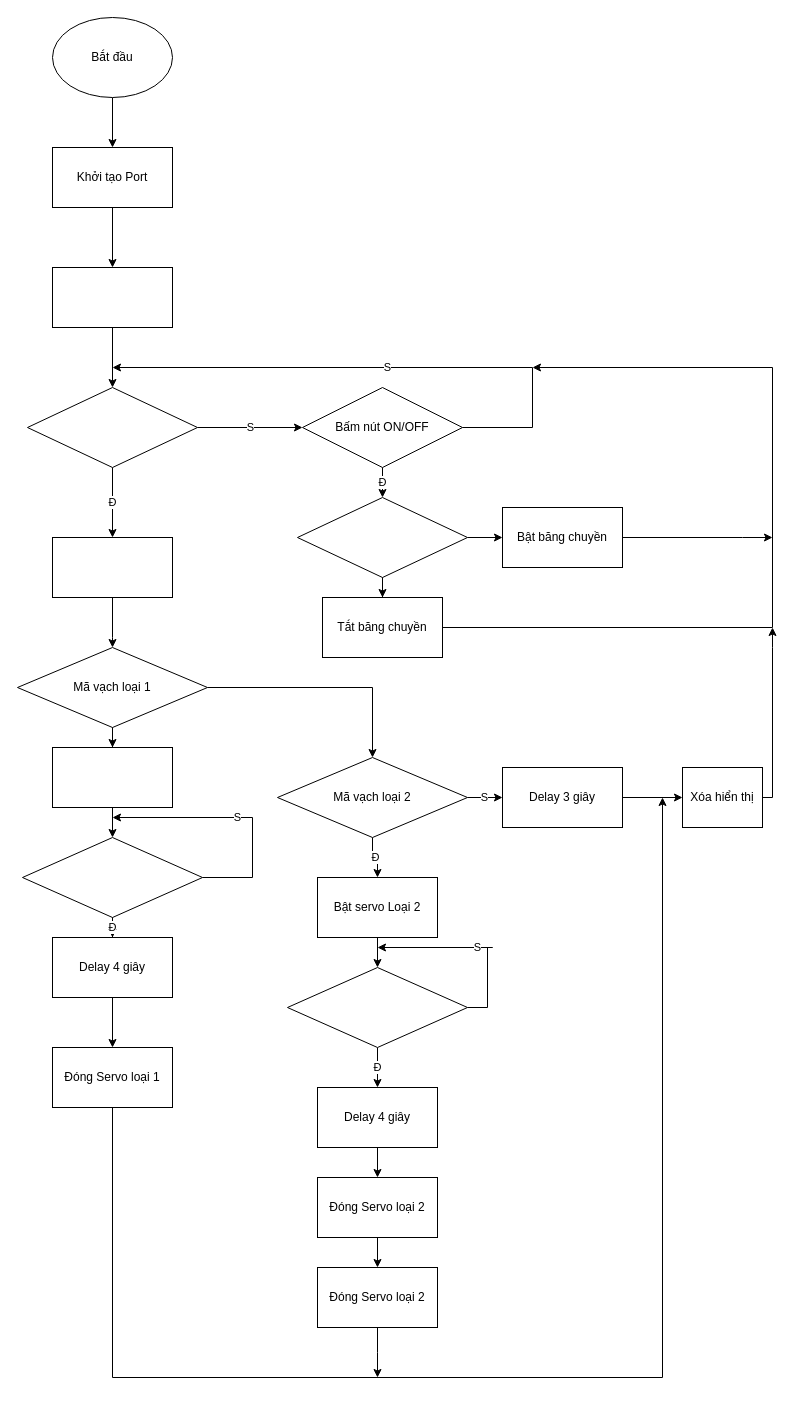
Image size: 798x1403. Some labels were removed from this diagram. Each missing label, with the centre of its shape:
"Băng chuyển đang bật?" belongs at pixel 382 537.
"Bật servo Loại 1" belongs at pixel 112 777.
"Chờ sảm phẩm đi qua cảm biến 1" belongs at pixel 112 877.
"Chờ sảm phẩm đi qua cảm biến 2" belongs at pixel 377 1007.
"Hiển thị thông tin Lên LCD" belongs at pixel 112 567.
"Khởi tạo LCD" belongs at pixel 112 297.
"Nhận mã vạch từ cảm biến?" belongs at pixel 112 427.
